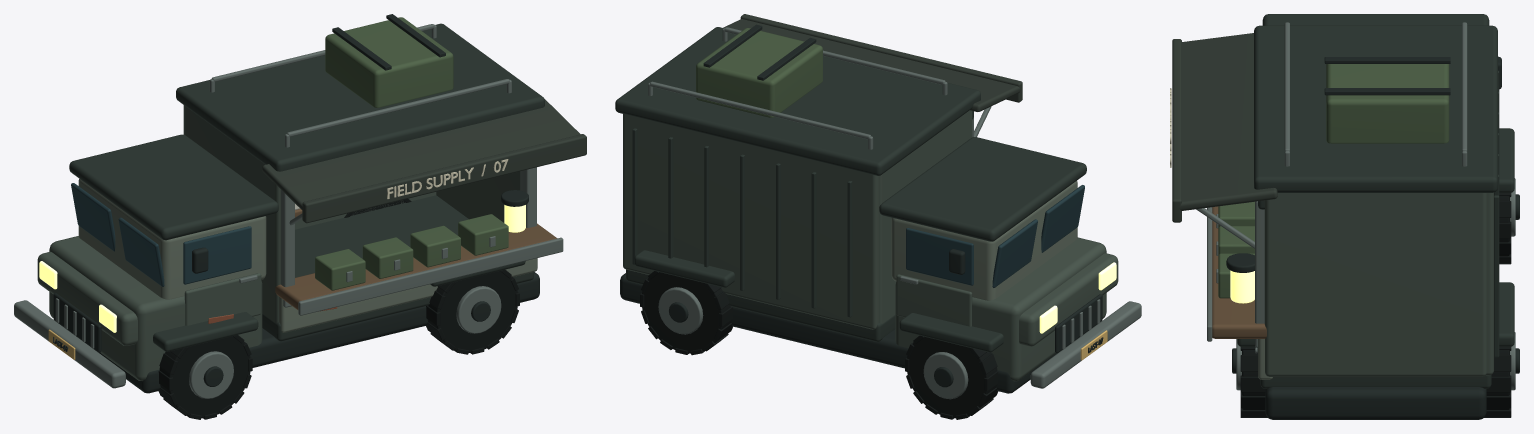
File: supply_truck.glb
3 views of the same model, side by side, from view 1: azimuth 30°, elevation 25°; view 2: azimuth 150°, elevation 25°; view 3: azimuth 270°, elevation 25° (orthographic). The views are drawn at different scales.
Visible parts, largest first — view 1: CargoRoof, CabRoof, Awning, RoofCrate, CargoFloor, CabLower, AwningEdge, CabUpper, Chassis, CargoFront, CounterEdge, Tire (+26 smaller); view 2: CargoBack, CargoRoof, CabRoof, RoofCrate, CabLower, CabUpper, Chassis, CargoFront, Awning, Tire.001, Hood, Tire.003 (+23 smaller); view 3: CargoEnd, CargoRoof, Awning, RoofCrate, Chassis, CabRoof, ServingCounter, CargoFloor, AwningEdge, CargoBack, WindowPost.001, Fender.001 (+17 smaller).
Part boxes in pixels (left/top/right/bottom): CargoRoof: left=176, top=23, right=544, bottom=171; CabRoof: left=69, top=134, right=278, bottom=240; Awning: left=262, top=99, right=580, bottom=210; RoofCrate: left=325, top=17, right=453, bottom=107; CargoFloor: left=262, top=195, right=533, bottom=341; CabLower: left=49, top=236, right=262, bottom=380; AwningEdge: left=302, top=134, right=586, bottom=223; CabUpper: left=78, top=179, right=266, bottom=299; Chassis: left=53, top=272, right=539, bottom=393; CargoFront: left=184, top=106, right=280, bottom=322; CounterEdge: left=298, top=237, right=563, bottom=315; Tire: left=159, top=336, right=250, bottom=418; CargoBack: left=623, top=114, right=878, bottom=329; CargoRoof: left=615, top=27, right=980, bottom=175; CabRoof: left=879, top=137, right=1086, bottom=241; RoofCrate: left=696, top=28, right=822, bottom=117; CabLower: left=895, top=237, right=1106, bottom=381; CabUpper: left=891, top=181, right=1077, bottom=300; Chassis: left=620, top=273, right=1102, bottom=393; CargoFront: left=879, top=110, right=972, bottom=323; Awning: left=723, top=19, right=1020, bottom=111; Tire.001: left=907, top=336, right=997, bottom=418; Hood: left=1019, top=253, right=1118, bottom=346; Tire.003: left=642, top=272, right=731, bottom=353; CargoEnd: left=1264, top=193, right=1486, bottom=376; CargoRoof: left=1254, top=25, right=1497, bottom=192; Awning: left=1178, top=33, right=1277, bottom=210; RoofCrate: left=1326, top=64, right=1449, bottom=143; Chassis: left=1265, top=387, right=1486, bottom=419; CabRoof: left=1262, top=14, right=1489, bottom=25; ServingCounter: left=1212, top=206, right=1266, bottom=338; CargoFloor: left=1260, top=375, right=1491, bottom=388; AwningEdge: left=1172, top=39, right=1181, bottom=222; CargoBack: left=1486, top=192, right=1493, bottom=375; WindowPost.001: left=1255, top=201, right=1264, bottom=347; Fender.001: left=1499, top=128, right=1514, bottom=192.
Size of the model in its own units: 6.11 by 3.62 by 3.56.
